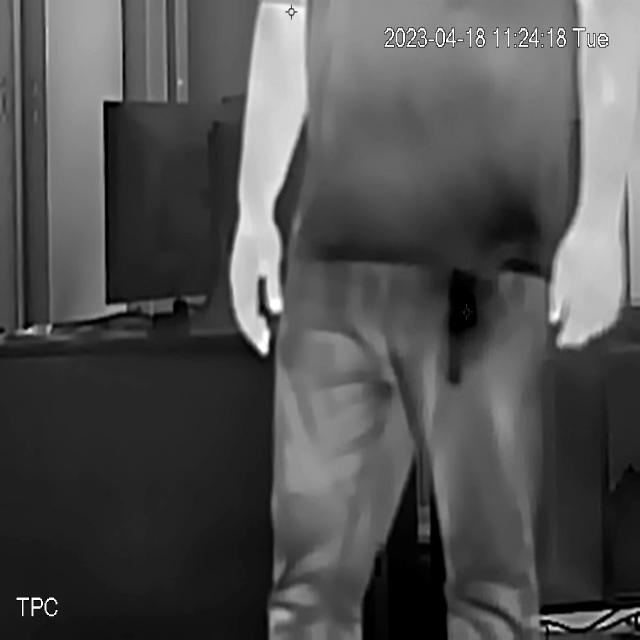Weapon: (425, 196, 555, 388)
